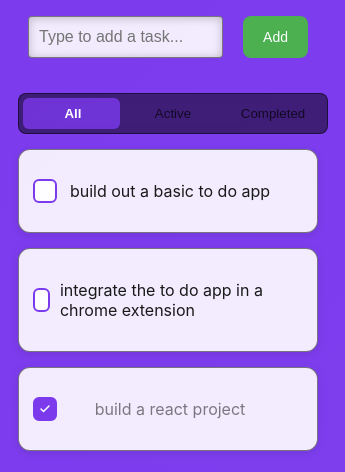
Scenario: TodoList › filters tasks
Check: the text "build a react project" is shown, box x1=95 y1=399 x2=245 y2=419
Check: the text "build out a basic to do app" is shown, box x1=70 y1=181 x2=270 y2=201
// Filter active tasks
Click the button "Active". click: click(173, 114)
box: x1=123 y1=98 x2=223 y2=129
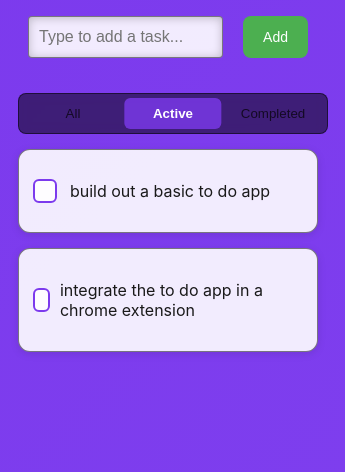
Check: the text "build out a basic to do app" is shown, box x1=70 y1=181 x2=270 y2=201
Check: the text "build a react project" is gone
// Filter completed tasks
Click the button "Completed". click: click(273, 114)
box: x1=223 y1=98 x2=323 y2=129
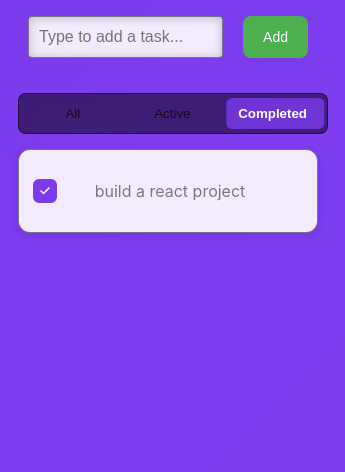
Check: the text "build a react project" is shown, box x1=95 y1=181 x2=245 y2=201
Check: the text "build out a basic to do app" is gone
